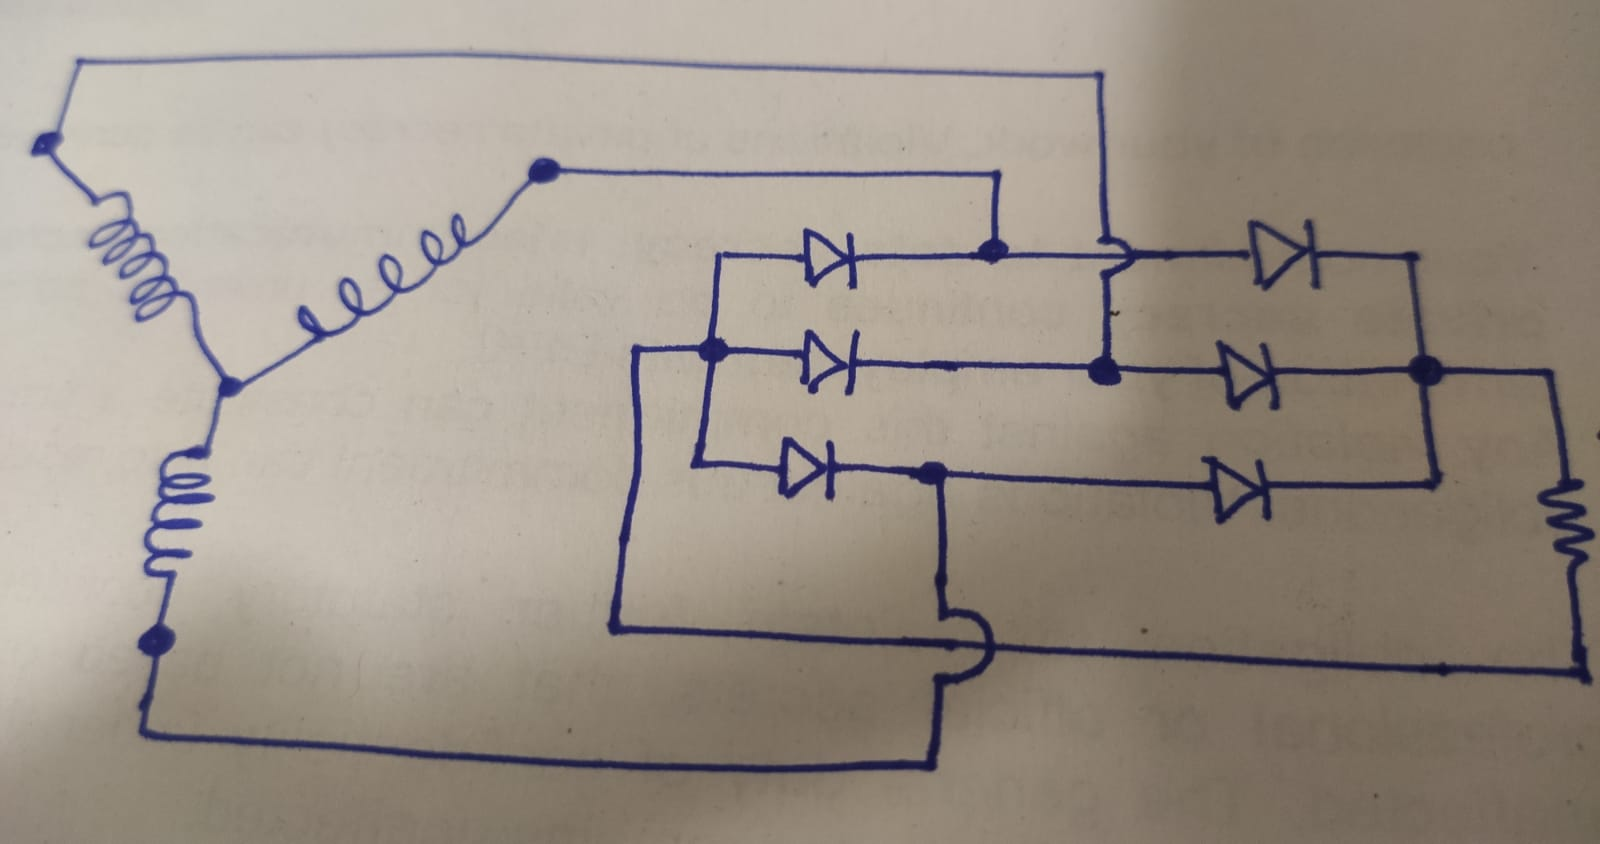crossover: (931, 601, 1000, 690), (1093, 232, 1137, 283)
diode: (1246, 218, 1323, 289), (1203, 454, 1275, 524), (1214, 336, 1281, 410), (772, 434, 840, 500), (796, 329, 861, 395), (800, 228, 861, 289)
inductor: (292, 210, 491, 345), (83, 190, 182, 322), (141, 446, 215, 584)
junction: (1401, 345, 1453, 389), (1081, 346, 1126, 393), (908, 453, 957, 494), (130, 621, 181, 660), (594, 607, 638, 650), (523, 151, 571, 190), (690, 326, 733, 368), (908, 742, 949, 786), (1413, 463, 1454, 504), (971, 231, 1015, 270), (23, 127, 68, 164), (678, 443, 719, 483), (1560, 654, 1597, 692), (212, 367, 248, 406), (1393, 240, 1429, 277), (618, 334, 655, 368), (976, 160, 1014, 192), (1531, 357, 1564, 390), (1084, 61, 1117, 92), (704, 241, 737, 272), (128, 717, 159, 749), (66, 51, 93, 78)
resistor: (1535, 470, 1596, 571)
